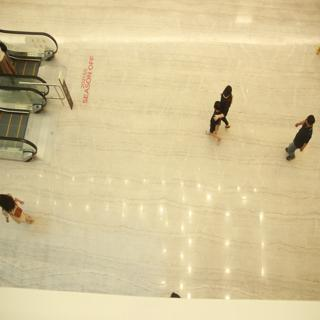person: (285, 109, 316, 166), (1, 186, 35, 231), (205, 95, 227, 148), (220, 82, 236, 119)
